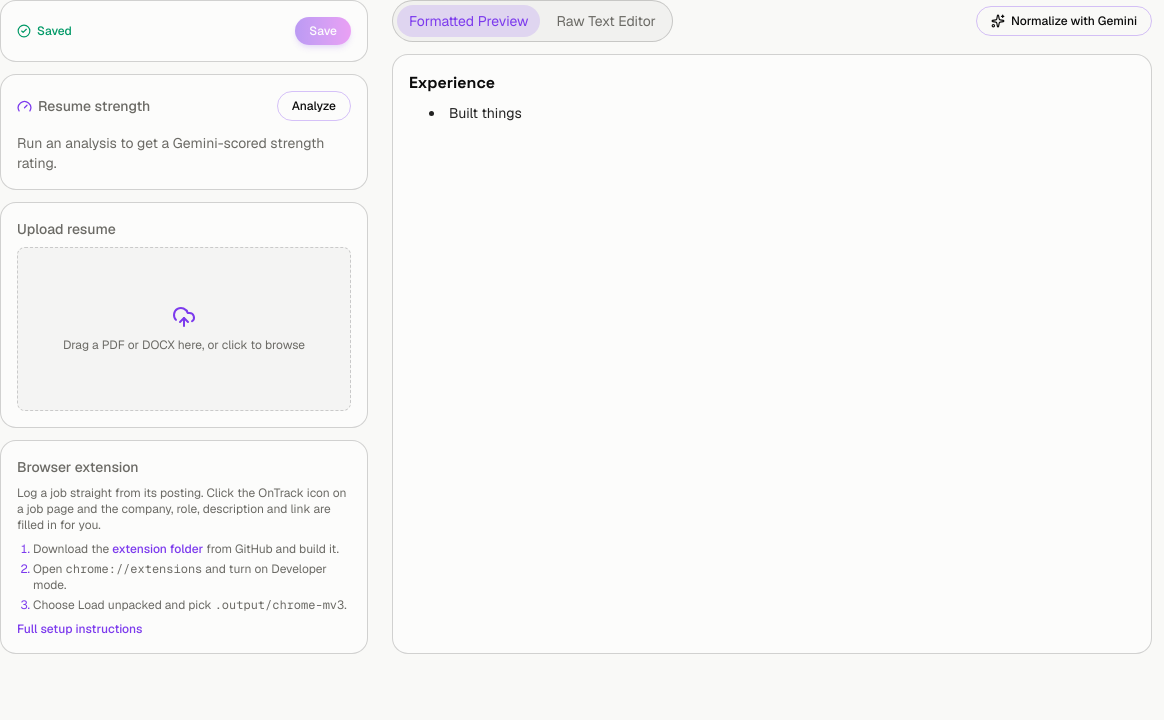
Test: ProfileView › defaults to the Formatted Preview tab and switches to the Raw Text Editor
The width and height of the screenshot is (1164, 720).
Expected: the list item "Built things" is shown, [449,104,522,122]
Click the button "Raw Text Editor".
click(606, 21)  # box [544,5,668,37]
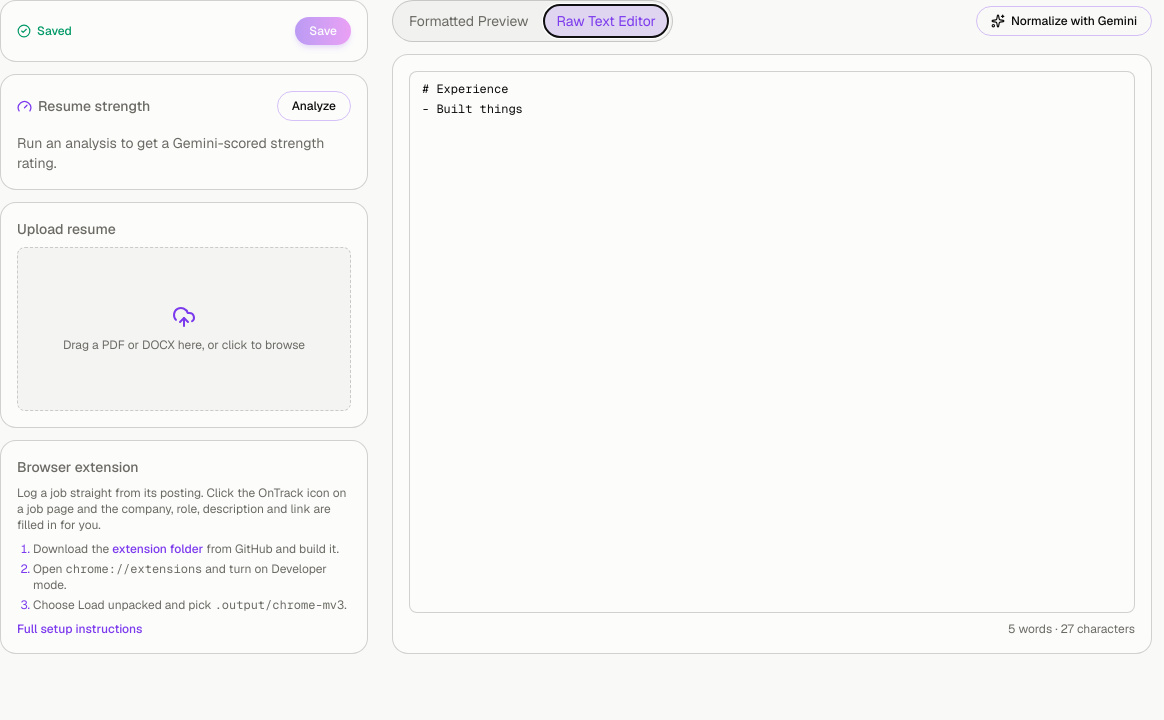
Now the text "5 words · 27 characters" is shown, box [1008,621,1135,637]
